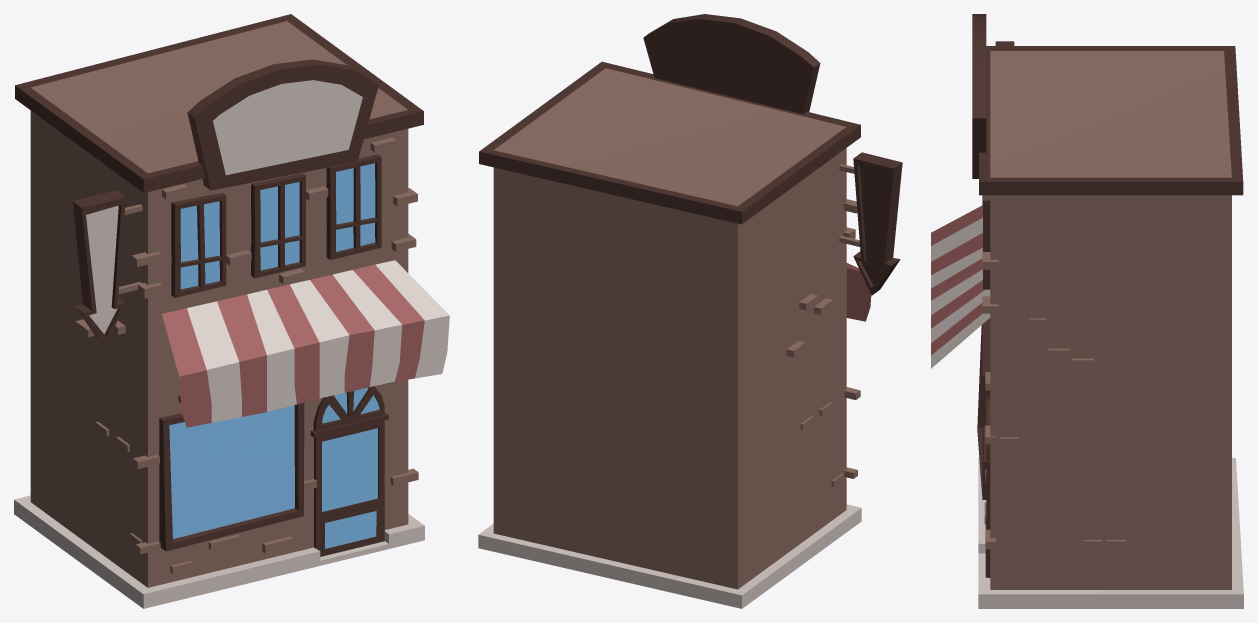
Rendered from Shop.fbx.
3 views of the same model, side by side, from view 1: azimuth 30°, elevation 25°; view 2: azimuth 150°, elevation 25°; view 3: azimuth 270°, elevation 25° (orthographic). The views are drawn at different scales.
Parts seen in each view (by area): view 1: Cube.003_0; view 2: Cube.003_0; view 3: Cube.003_0.
Boxes of the visible parts, x1=… form: Cube.003_0: x1=14, y1=14, x2=449, y2=608; Cube.003_0: x1=478, y1=14, x2=902, y2=608; Cube.003_0: x1=931, y1=14, x2=1243, y2=608.
Size of the model in its own units: 678 by 983 by 550.
